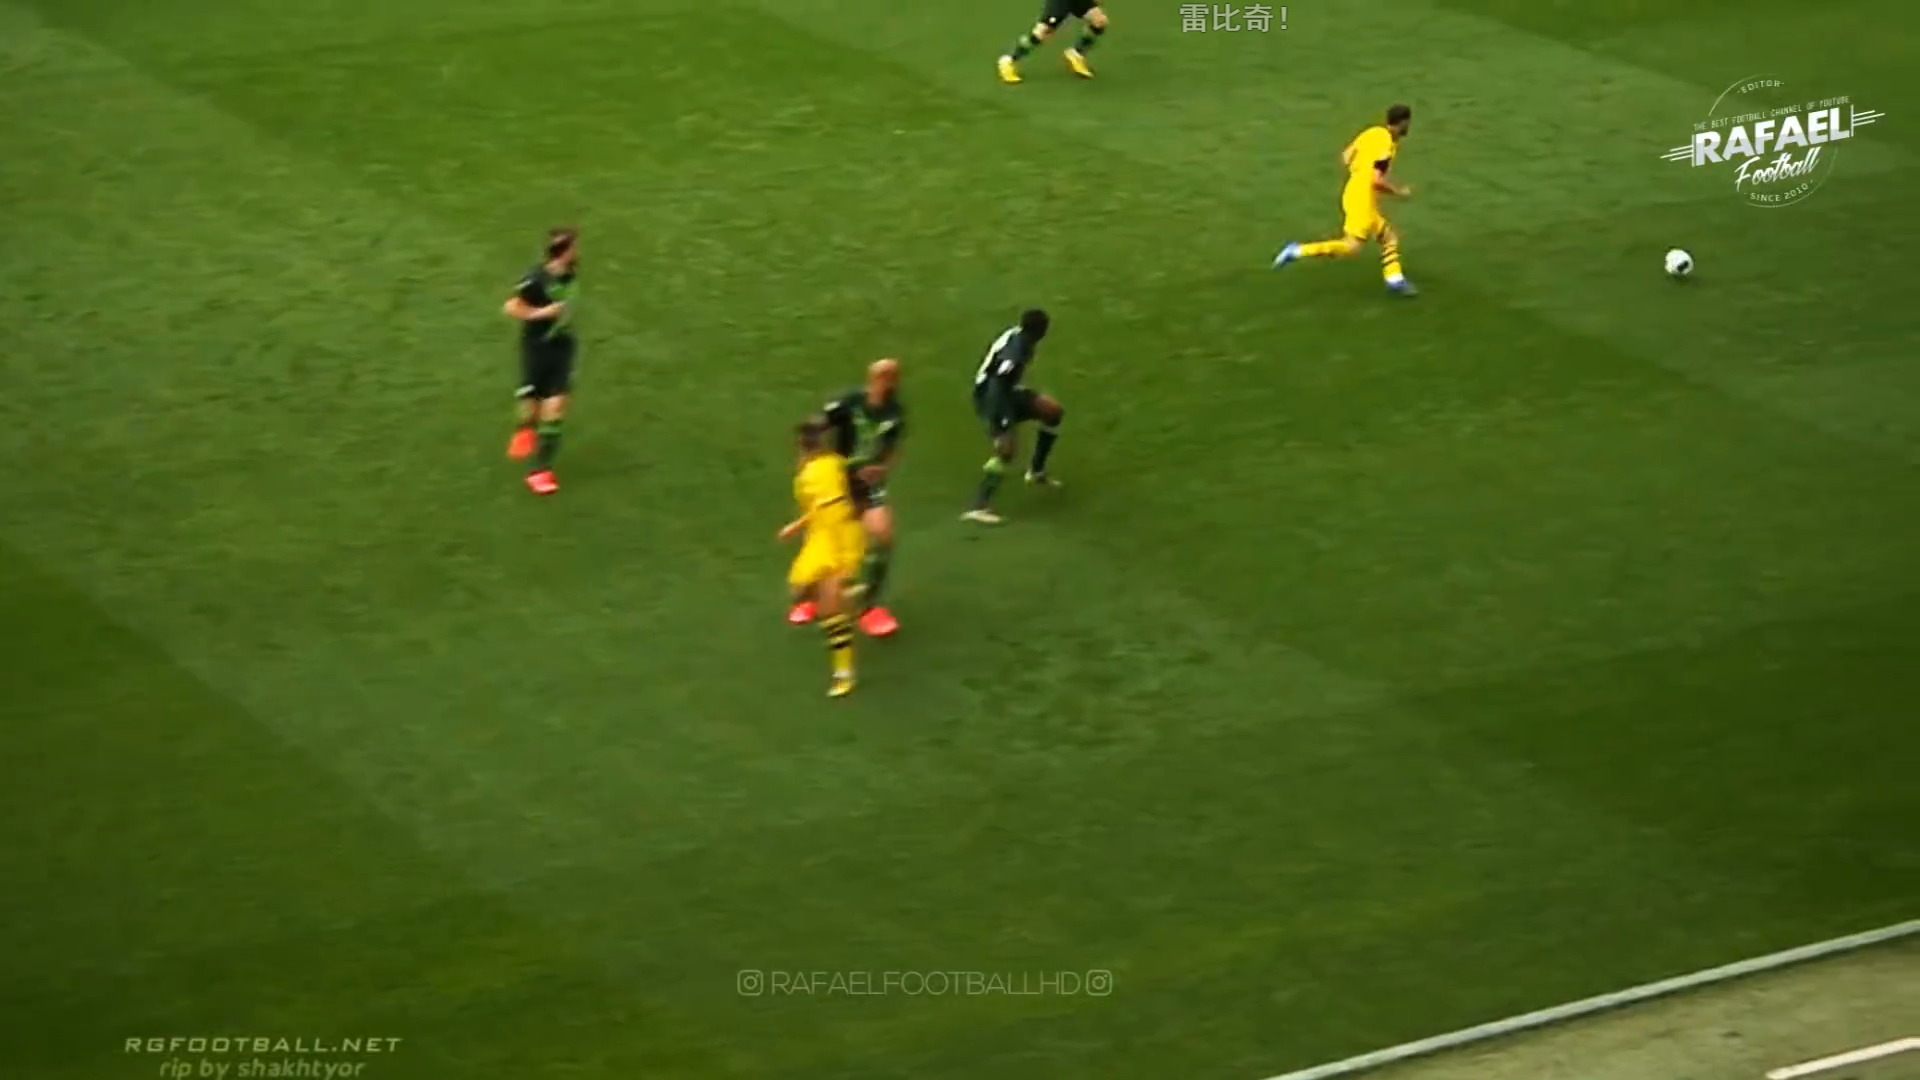ft: (1659, 244, 1697, 284)
